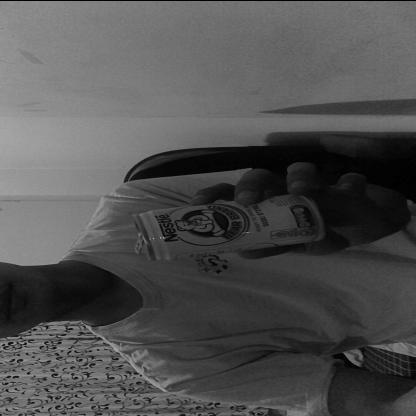alumunium_can: (130, 190, 322, 260)
